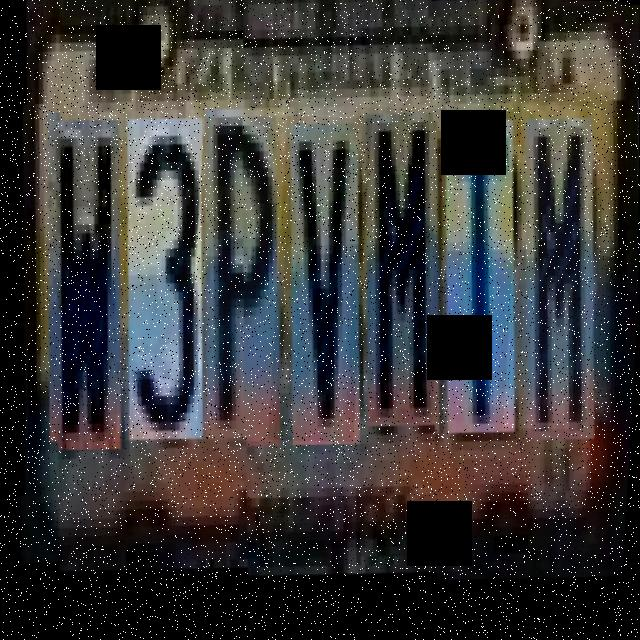3: (106, 117, 217, 446)
M: (504, 106, 607, 435), (346, 107, 451, 427)
P: (186, 109, 293, 445)
T: (425, 107, 526, 427)
V: (270, 115, 373, 445)
W: (27, 117, 134, 455)
